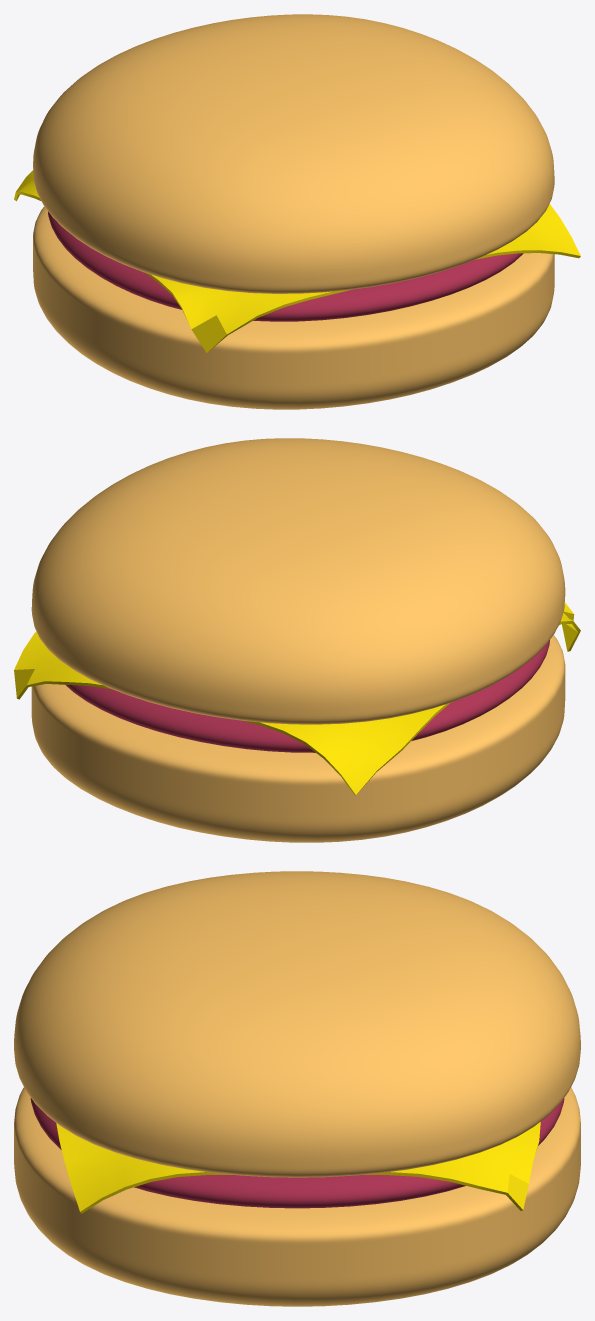
File: hamburger.glb
3 views of the same model, one above another, from view 1: azimuth 30°, elevation 25°; view 2: azimuth 150°, elevation 25°; view 3: azimuth 270°, elevation 25° (orthographic). The views are drawn at different scales.
Visible parts, largest first — view 1: Cube.002, Cube, Cube.001, Plane; view 2: Cube.002, Cube, Plane, Cube.001; view 3: Cube.002, Cube, Plane, Cube.001.
Boxes of the visible parts, box(x1,y1,x2,y2) form: Cube.002: box(33, 14, 554, 293); Cube: box(33, 206, 554, 409); Cube.001: box(48, 211, 523, 321); Plane: box(14, 170, 580, 352); Cube.002: box(31, 438, 565, 724); Cube: box(31, 635, 565, 842); Plane: box(14, 602, 580, 795); Cube.001: box(65, 640, 549, 752); Cube.002: box(14, 871, 580, 1177); Cube: box(14, 1087, 580, 1306); Plane: box(56, 1122, 540, 1213); Cube.001: box(30, 1098, 564, 1208).
Bounding box in the file's own units: 9.02 × 5.11 × 9.02.
